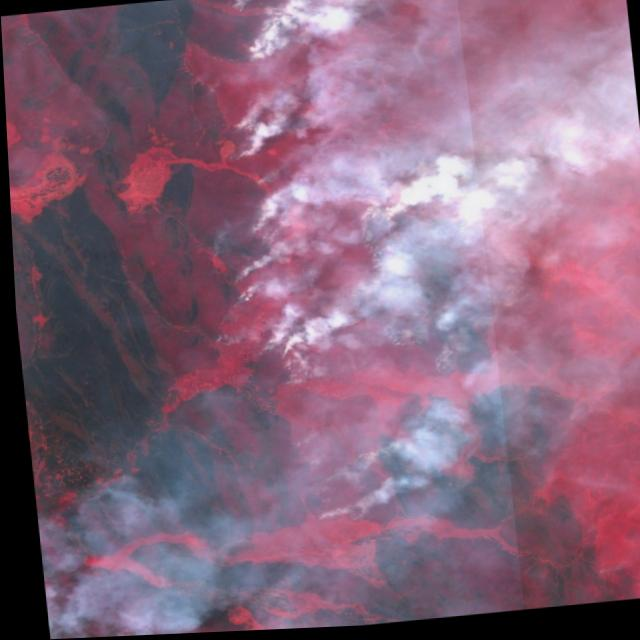fire: (189, 0, 373, 537), (340, 187, 518, 391)
